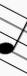G: (0, 4, 26, 72)
